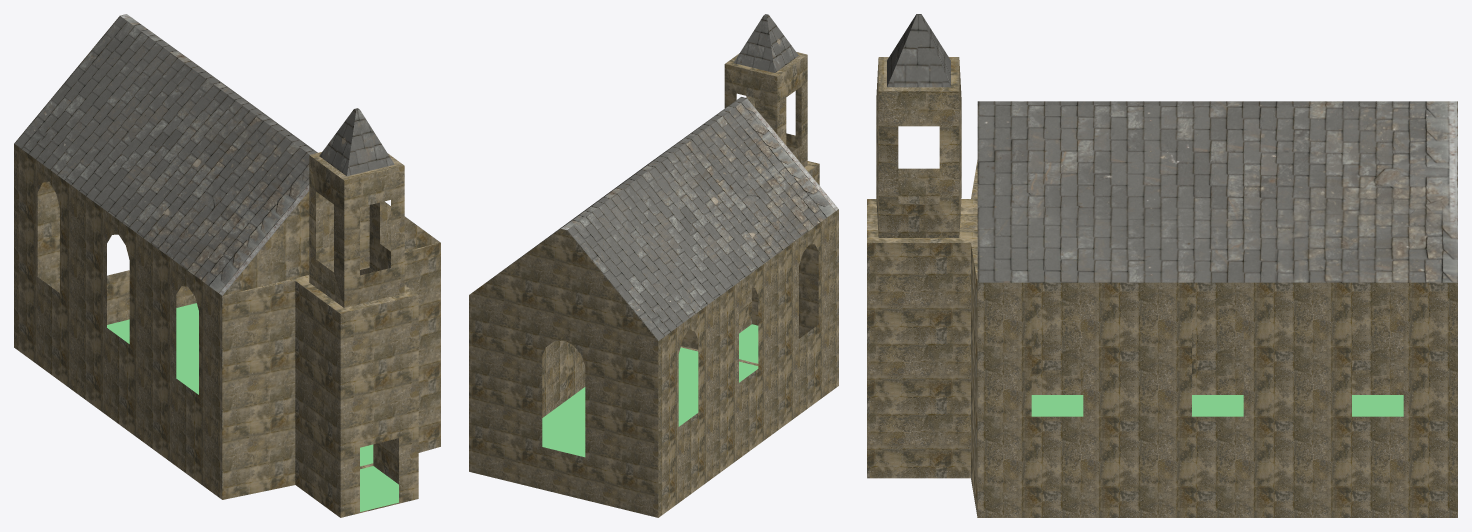
The model's file is school_mid.glb.
3 renders of one model, left to right at view 1: azimuth 30°, elevation 25°; view 2: azimuth 150°, elevation 25°; view 3: azimuth 270°, elevation 25°, orthographic. The views are drawn at different scales.
Visible parts, largest first — view 1: Cube; view 2: Cube; view 3: Cube.
Part boxes in pixels (x1,y1,x2,y2): Cube: (14,14,440,517); Cube: (469,14,838,517); Cube: (867,14,1457,517).
Bounding box in the file's own units: 8.96 × 15 × 18.2.
3 materials, 2 textured.
